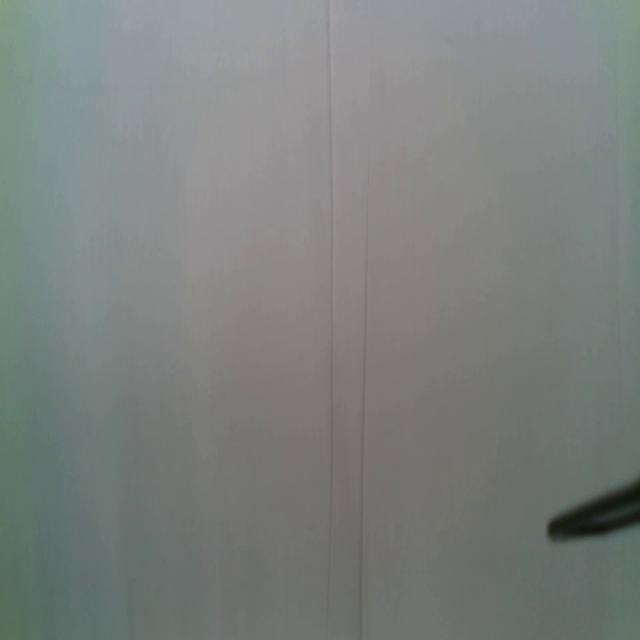crease: (321, 0, 335, 640), (358, 134, 372, 640)
